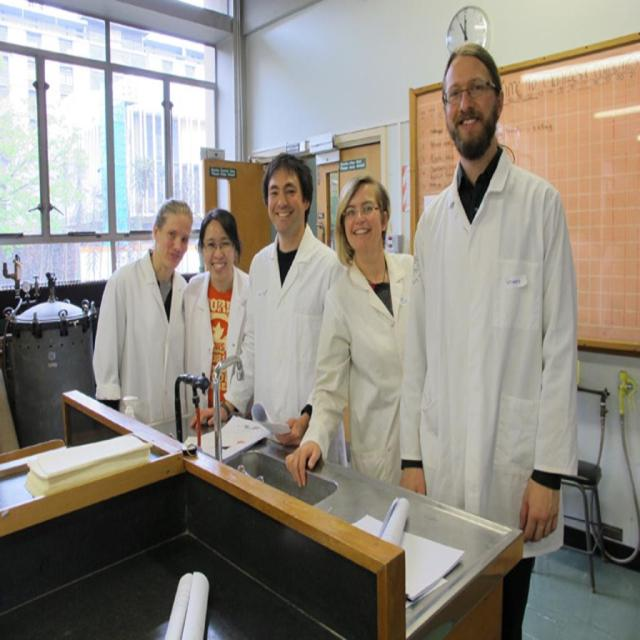Face: (444, 57, 513, 151), (339, 190, 391, 257), (269, 168, 309, 236), (151, 211, 194, 263), (206, 225, 239, 280)
